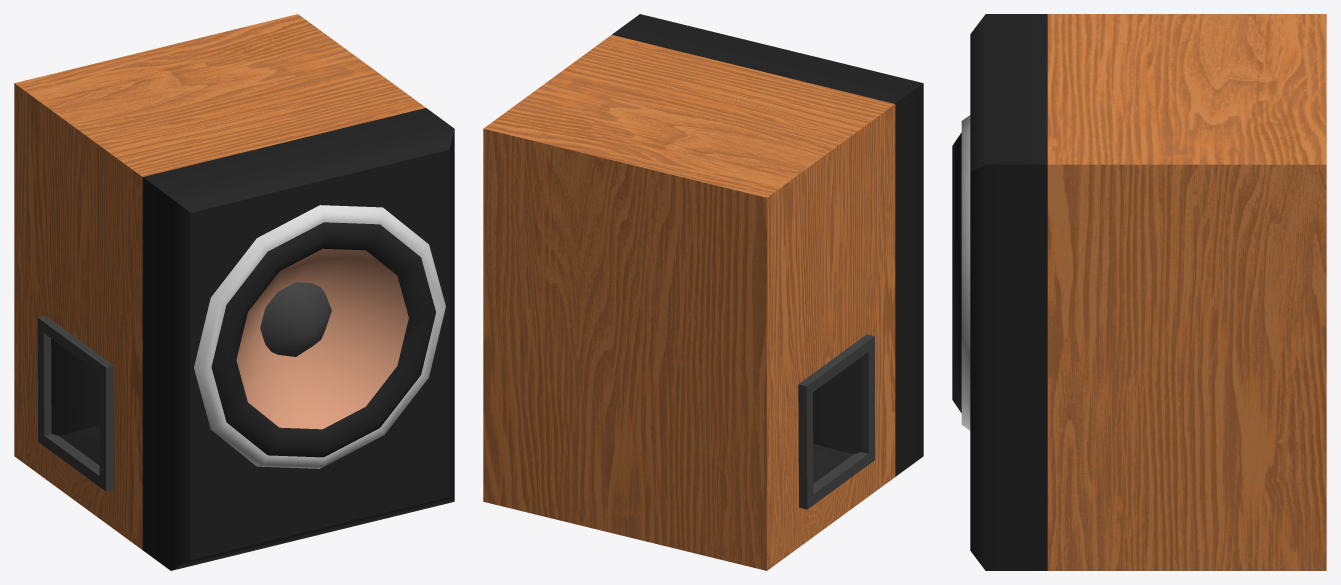
The model's file is entertainment_020.fbx.
3 views of the same model, side by side, from view 1: azimuth 30°, elevation 25°; view 2: azimuth 150°, elevation 25°; view 3: azimuth 270°, elevation 25° (orthographic). The views are drawn at different scales.
Visible parts, largest first — view 1: entertainment_020; view 2: entertainment_020; view 3: entertainment_020.
Part boxes in pixels (x1,y1,x2,y2): entertainment_020: [14, 14, 454, 570]; entertainment_020: [483, 14, 923, 570]; entertainment_020: [952, 14, 1326, 570].
Size of the model in its own units: 64.78 by 66.11 by 79.12.
